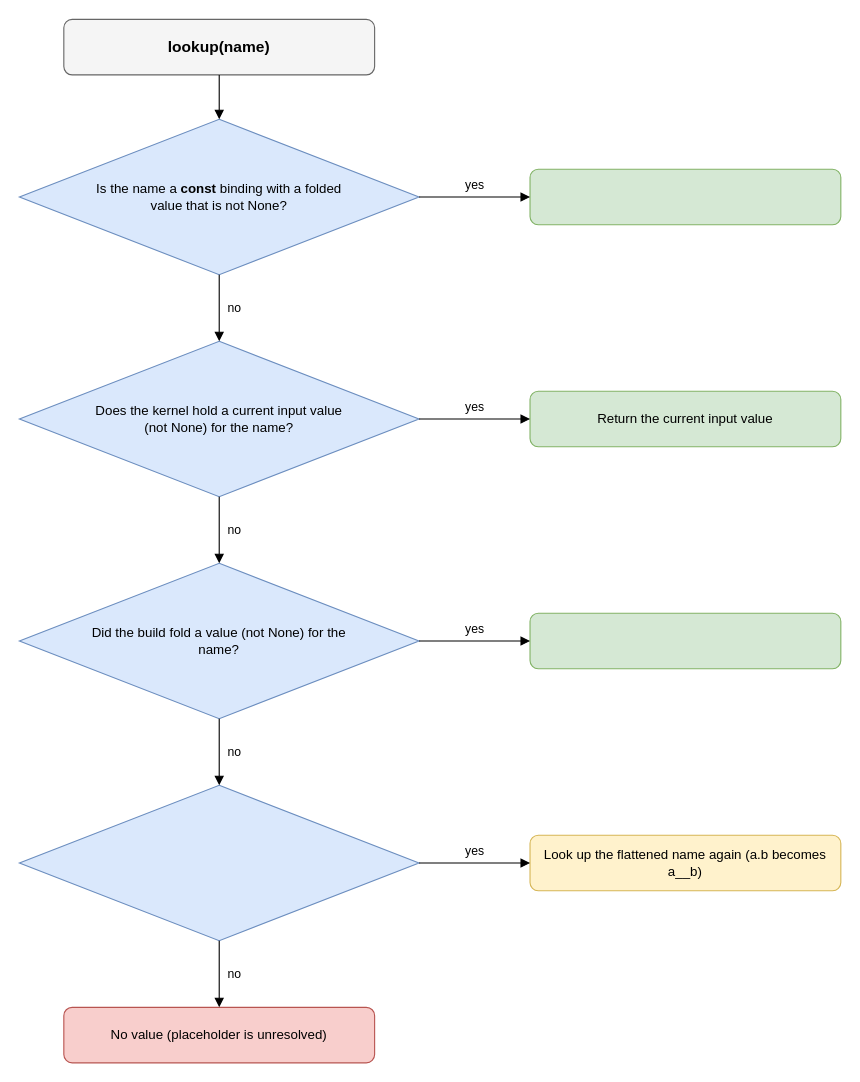
The diagram is 860 pixels wide and 1082 high, and some of its shapes have lost their labels. The shapes that lost their labels are listed below. From the top down, each one's centre as x and y in pixels, then its label:
At (x=685, y=196): "Return the const's folded value".
At (x=685, y=640): "Return the folded value".
At (x=218, y=862): "Does the name contain a dot?".
